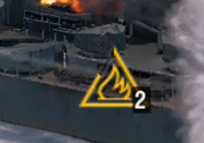2fire: (75, 73, 151, 112)
